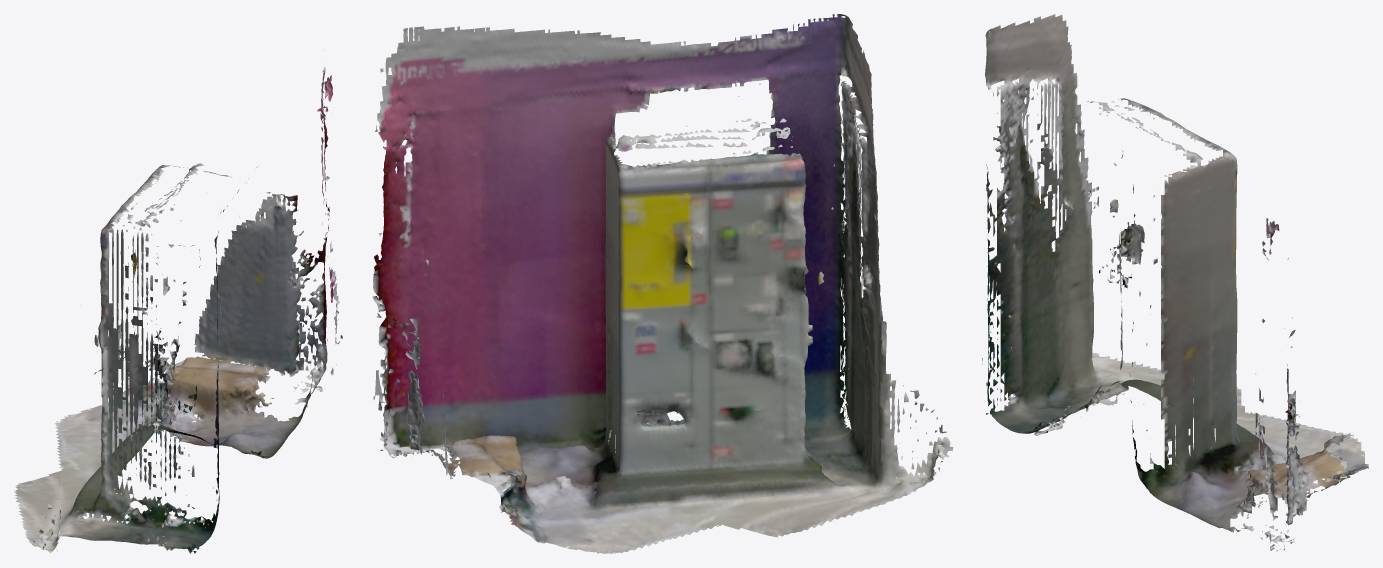
The model's file is mccscan2_authoring.glb.
3 views of the same model, side by side, from view 1: azimuth 30°, elevation 25°; view 2: azimuth 150°, elevation 25°; view 3: azimuth 270°, elevation 25° (orthographic). The views are drawn at different scales.
Bounding box in the file's own units: 2.76 × 2.54 × 2.12.
